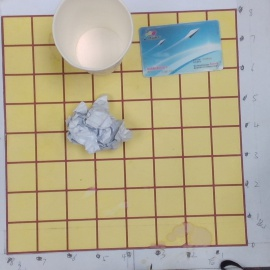card: (138, 20, 224, 74)
cup: (50, 1, 133, 80)
